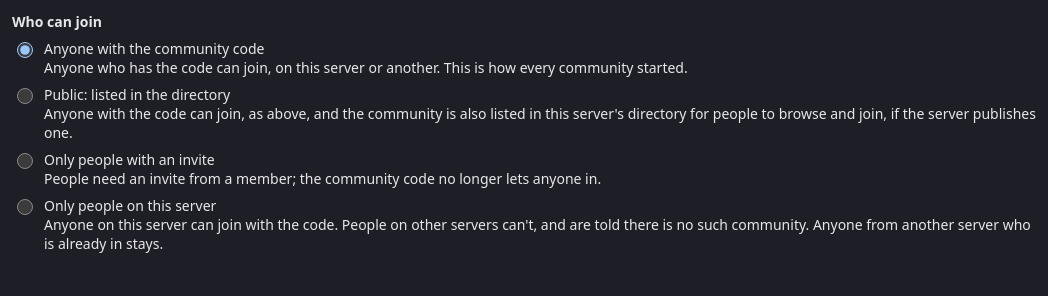
Test: Settings -> General -> Who can join › says when it could not change it, and goes back to what is saved
The image size is (1048, 296).
Click the radio button labelled "Only people on this server" at x=25, y=207, box [17,199,33,215]
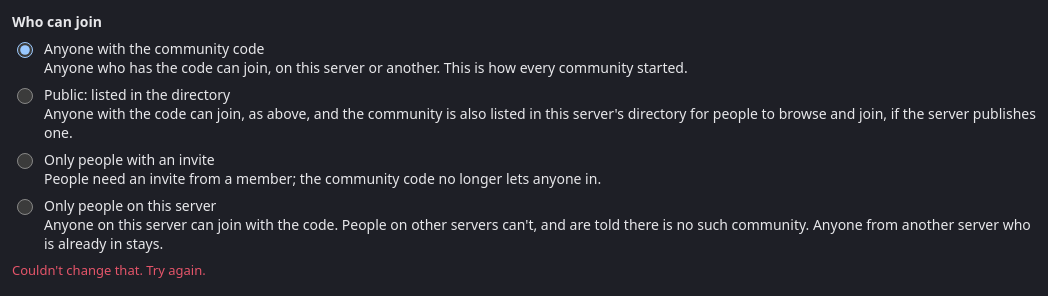
Now the message shows "Couldn't change that", box [12,261,206,279]
